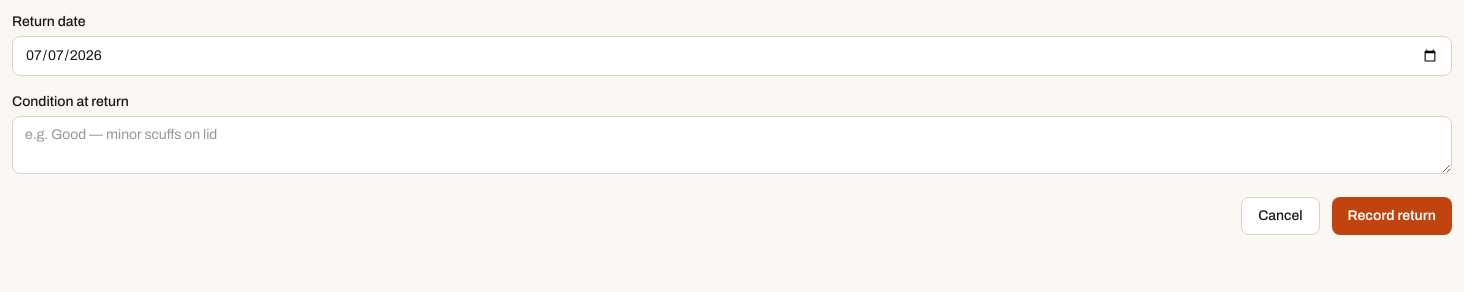
Test case: ReturnForm › shows a human error when the database rejects the update
Type "Working" into the text box labelled "Condition at return" at (732, 145), box [12,116,1452,174]
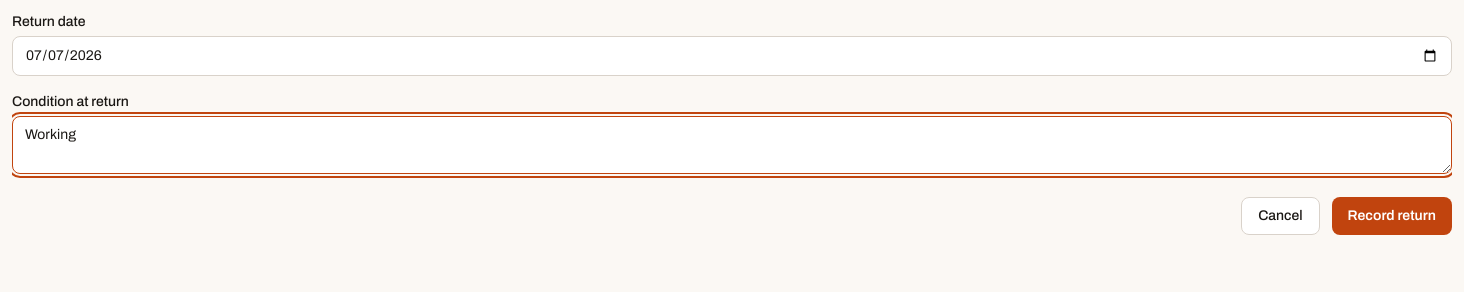
Click the button "Record return" at (1392, 216), box [1332,197,1452,235]
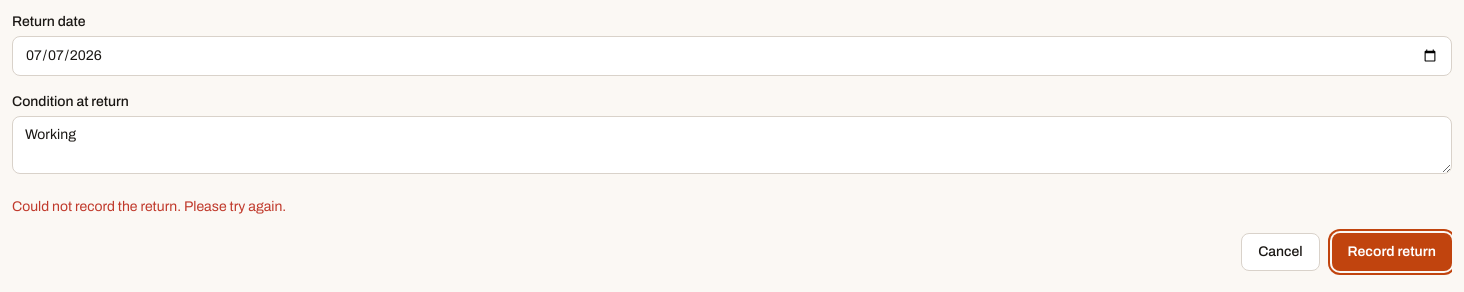
Check: the message shows "Could not record the return", box [12,199,286,214]
